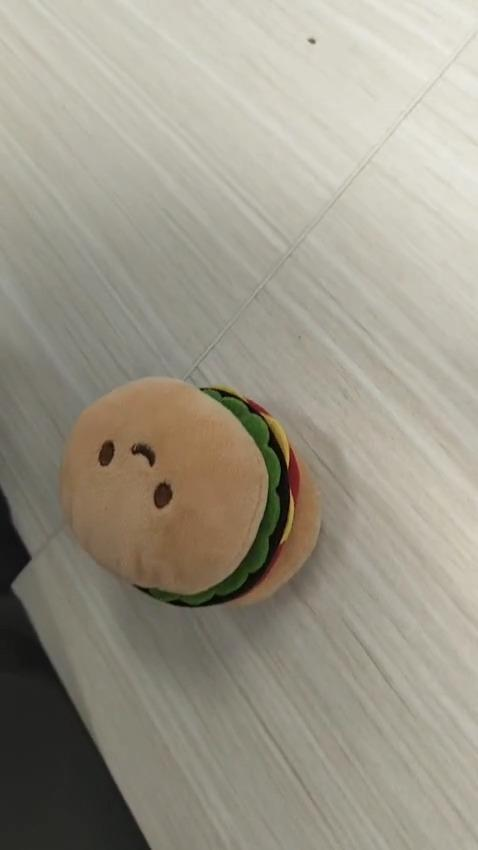hamburger: (58, 375, 321, 609)
